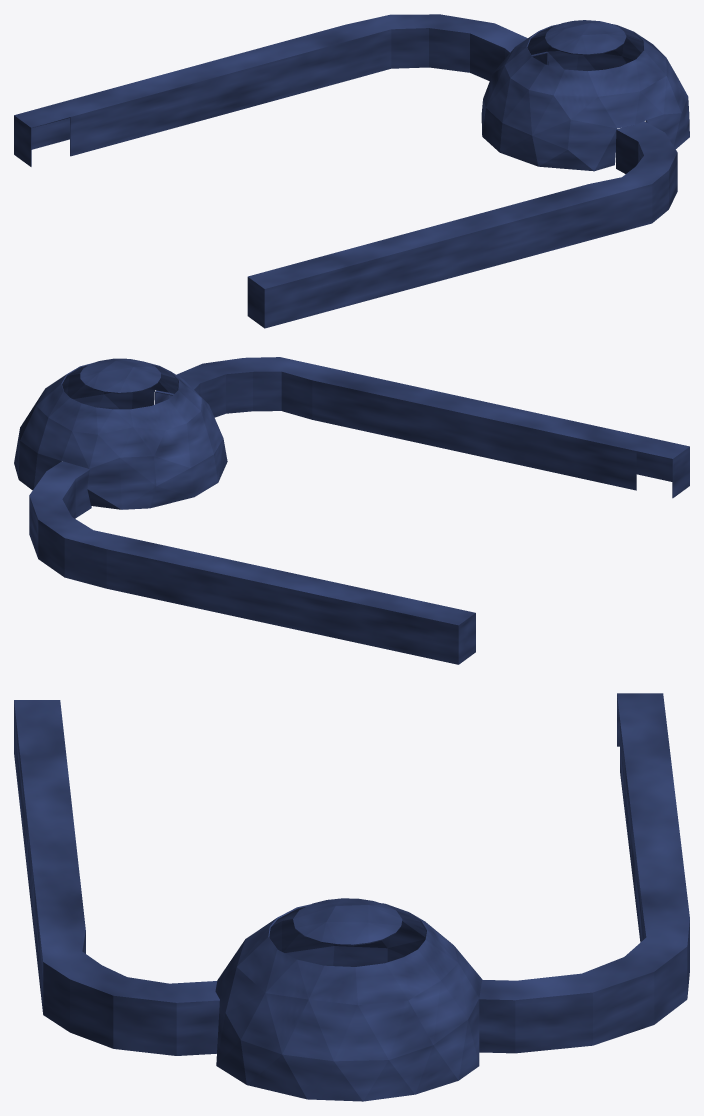
Rendered from dowm-spawn.dae.
The picture shows the model from 3 angles, top to bottom: view 1: azimuth 30°, elevation 25°; view 2: azimuth 150°, elevation 25°; view 3: azimuth 270°, elevation 25°; orthographic projection. The views are drawn at different scales.
Visible parts, largest first — view 1: Plane; view 2: Plane; view 3: Plane.
Boxes of the visible parts, x1,y1,x2,y2 form: Plane: (14,14,689,328); Plane: (14,357,689,664); Plane: (14,693,689,1101).
Bounding box in the file's own units: 2.4 × 1.91 × 0.4181.
Materials: 1 (1 with a texture image).
